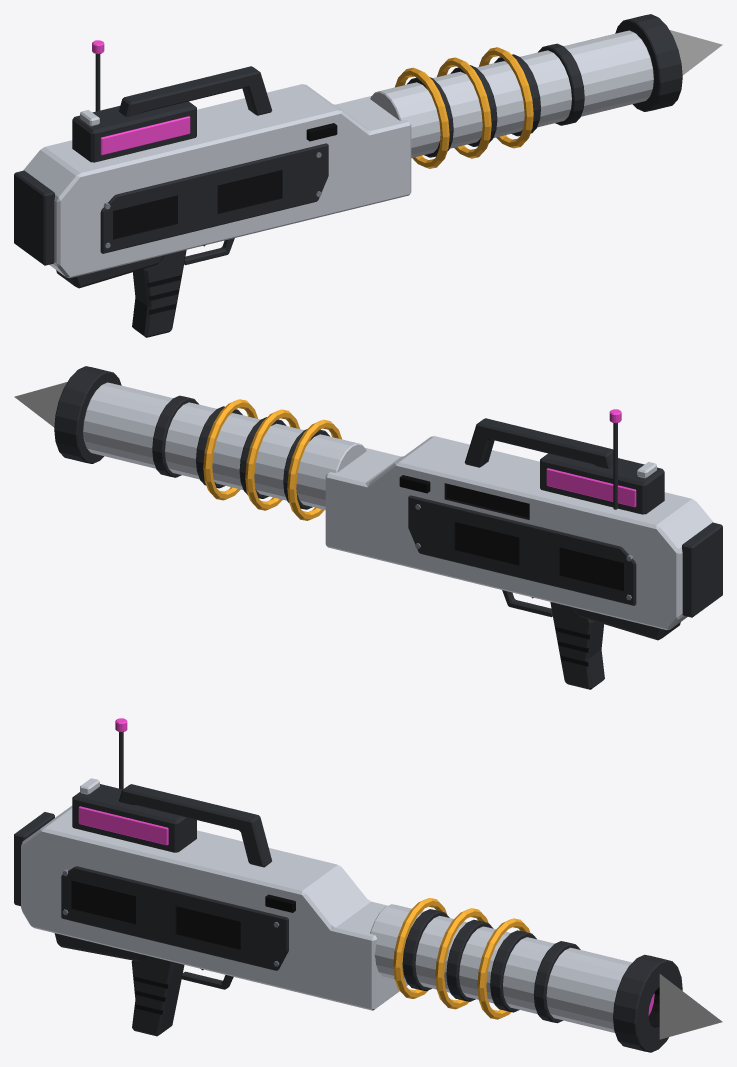
The model's file is plasma_cannon42.obj.
3 views of the same model, one above another, from view 1: azimuth 30°, elevation 25°; view 2: azimuth 150°, elevation 25°; view 3: azimuth 330°, elevation 25° (orthographic).
Visible parts, largest first — view 1: body, barrel, cell, muzzle_0; view 2: body, barrel, cell, muzzle_0; view 3: body, barrel, cell, muzzle_0.
Part boxes in pixels (x1,y1,x2,y2): body: [14, 40, 533, 337]; barrel: [370, 14, 682, 157]; cell: [72, 101, 196, 162]; muzzle_0: [669, 30, 722, 75]; body: [203, 399, 722, 689]; barrel: [54, 366, 366, 509]; cell: [540, 453, 664, 514]; muzzle_0: [14, 382, 67, 427]; body: [14, 718, 530, 1036]; barrel: [370, 904, 682, 1052]; cell: [72, 778, 196, 852]; muzzle_0: [659, 974, 722, 1039].
Bounding box in the file's own units: 0.8183 × 0.3267 × 0.106.
